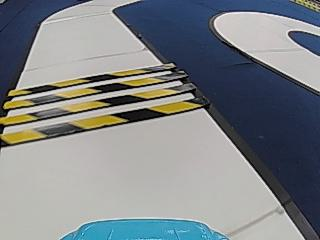bump: (0, 60, 207, 149)
